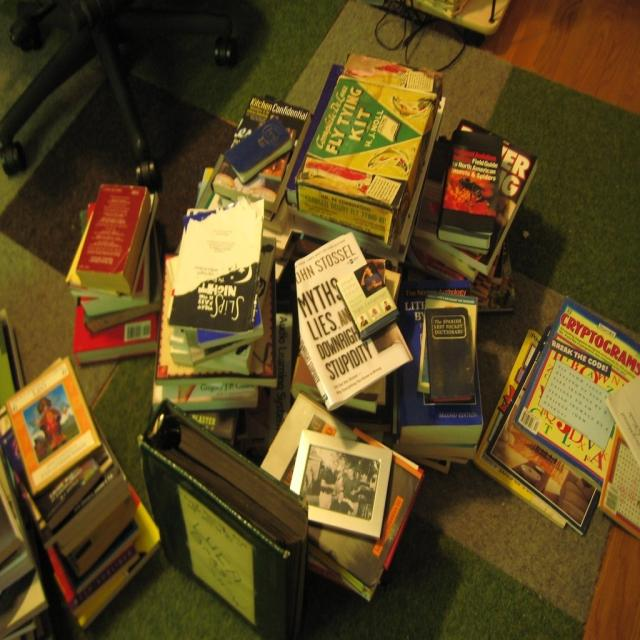book: (4, 355, 101, 492), (311, 76, 436, 179), (75, 185, 147, 274), (428, 306, 479, 397)
